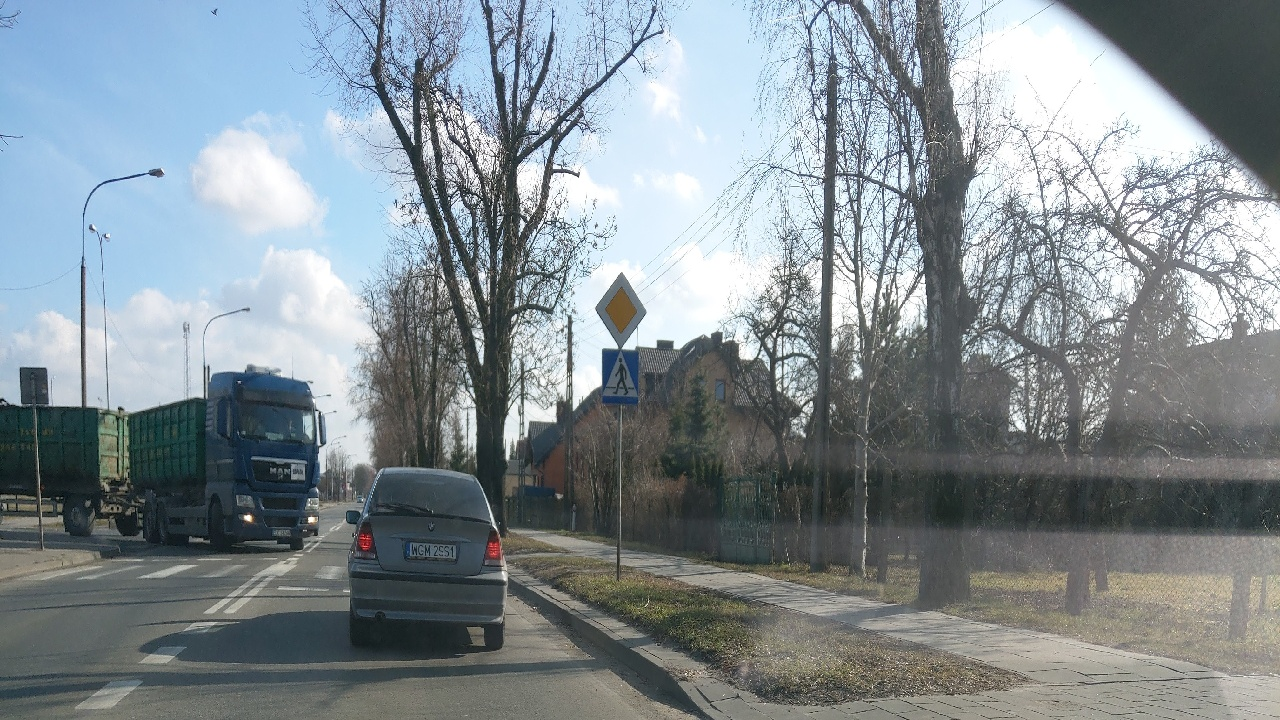D1: (587, 268, 652, 349)
D6: (588, 348, 653, 409)
